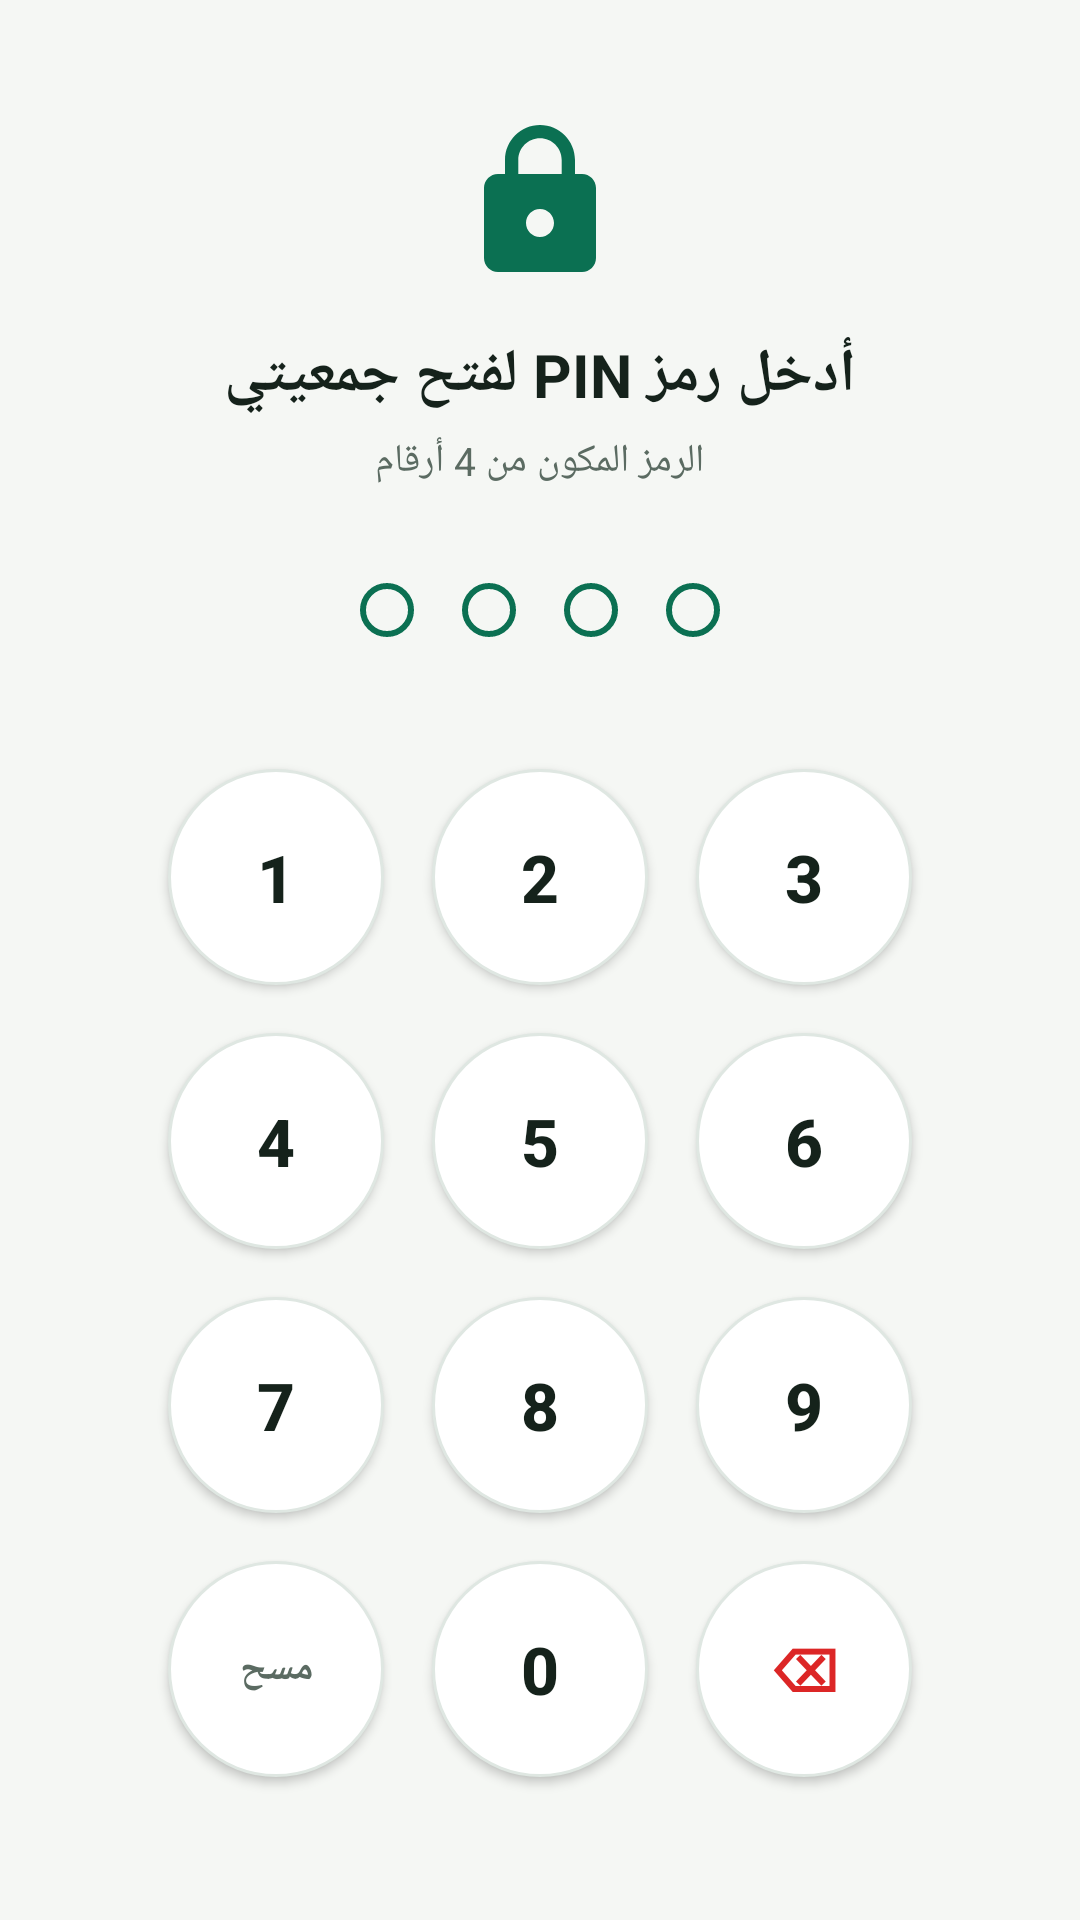

Icons on this 1080px x 1920px Android screen, each with its box as (x1, y1, x2, y2):
حماية الخصوصية (رمز PIN): (484, 125, 596, 272)
